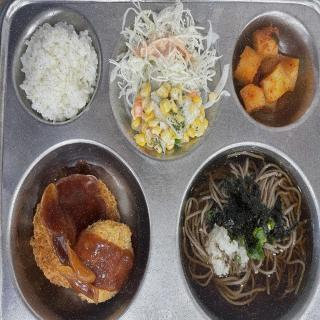Nasi: (24, 23, 98, 126)
